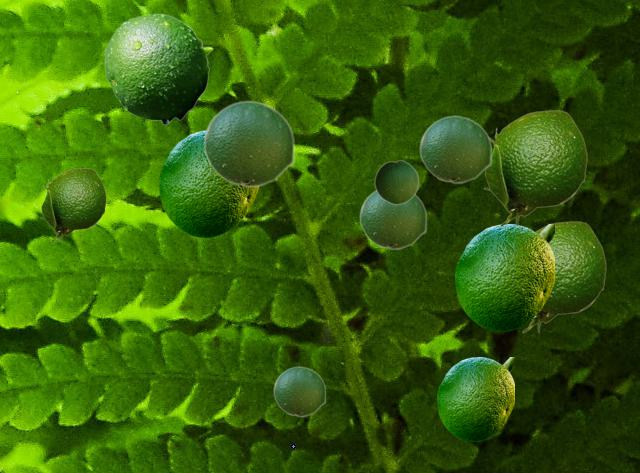dalandan: (104, 13, 212, 124), (483, 110, 586, 226), (159, 130, 257, 236), (455, 224, 553, 330), (521, 221, 605, 332), (203, 100, 294, 187), (437, 357, 513, 440), (419, 115, 491, 183), (40, 168, 105, 241), (359, 190, 426, 249), (273, 366, 325, 416), (374, 159, 418, 204)
